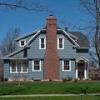chimneys: (45, 14, 57, 80)
